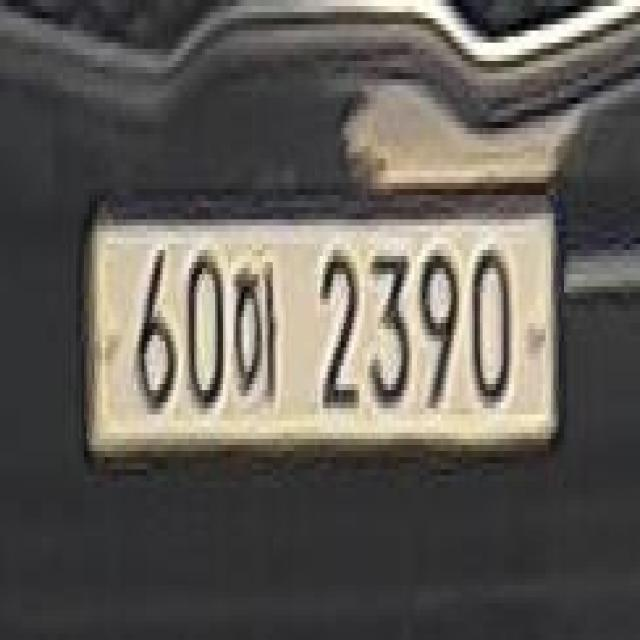0: (466, 248, 514, 404), (182, 243, 227, 408)
2: (314, 250, 364, 413)
3: (368, 242, 413, 409)
6: (130, 241, 180, 412)
9: (417, 247, 462, 410)
ha: (230, 242, 282, 409)
license_plate: (71, 178, 571, 465)
